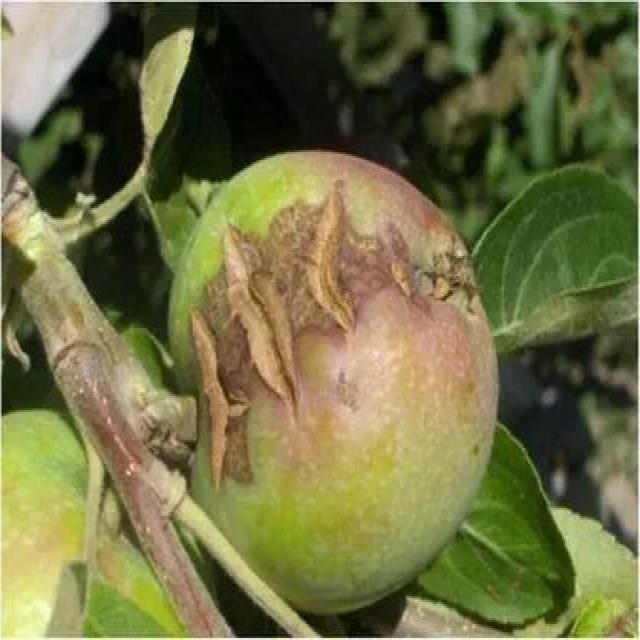Rotten: (178, 160, 480, 640)
